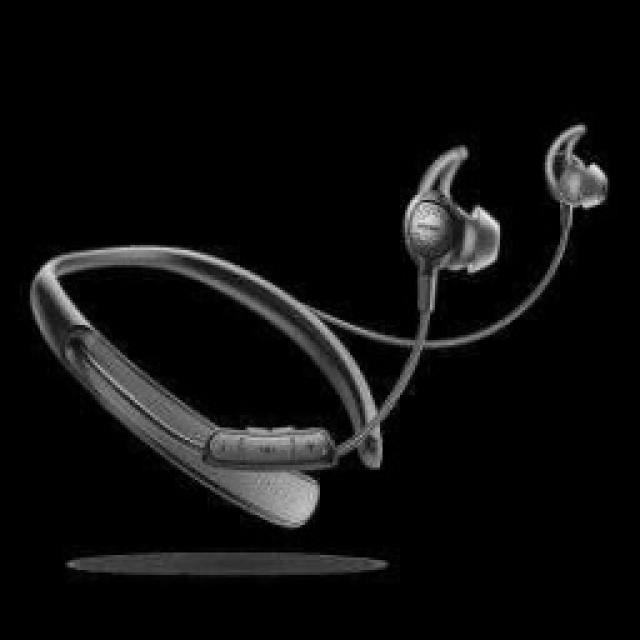headphones: (28, 120, 610, 530)
